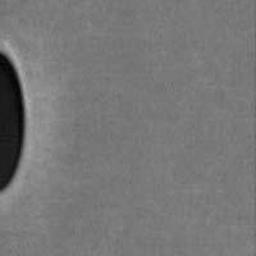Punching: (0, 49, 28, 191)
